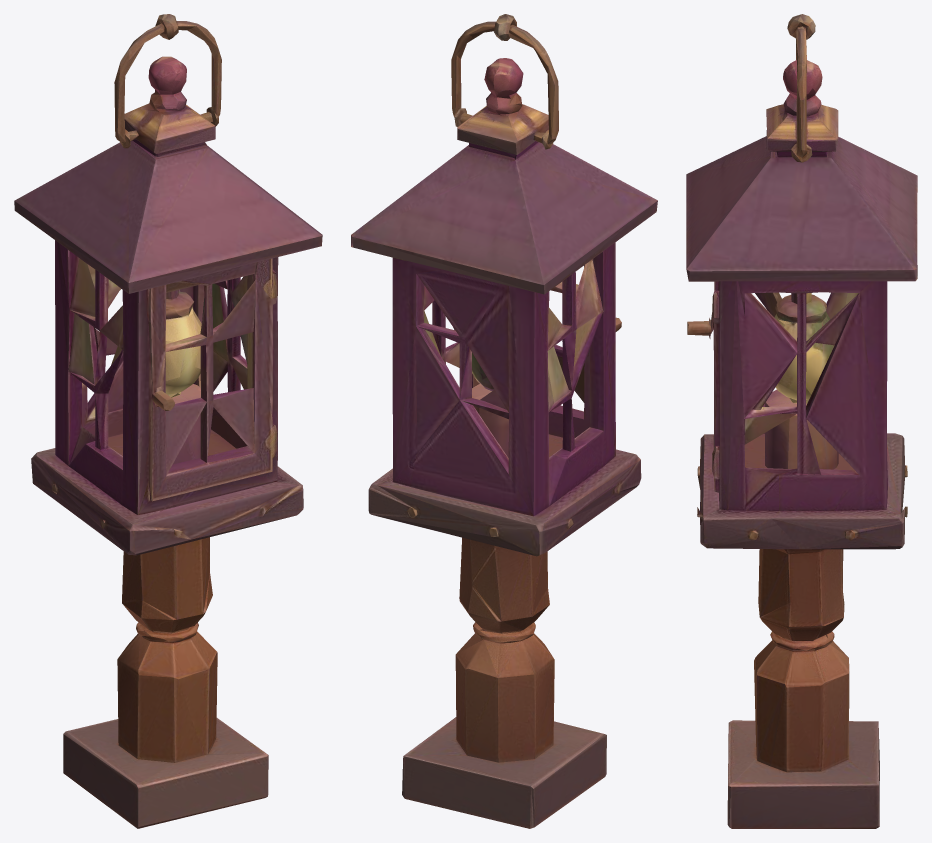
File: lanterna.glb
3 renders of one model, left to right at view 1: azimuth 30°, elevation 25°; view 2: azimuth 150°, elevation 25°; view 3: azimuth 270°, elevation 25°, orthographic.
Bounding box in the file's own units: 0.5027 × 1.9 × 0.5092.
1 material, 1 textured.
